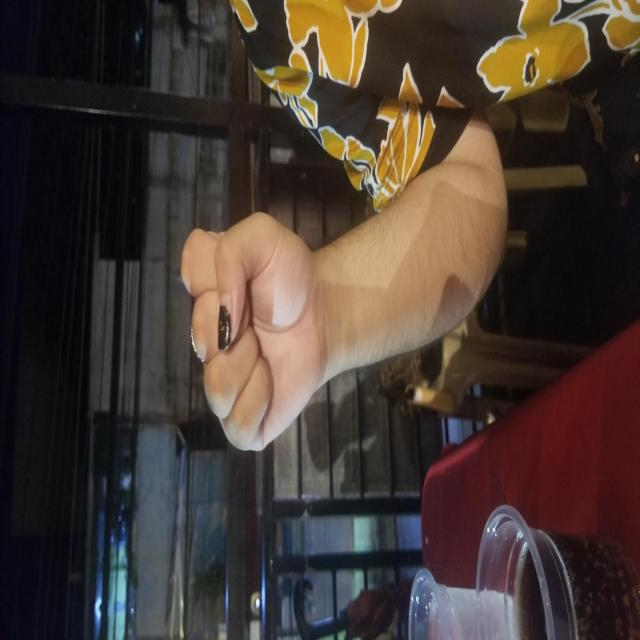S: (180, 178, 432, 322)
